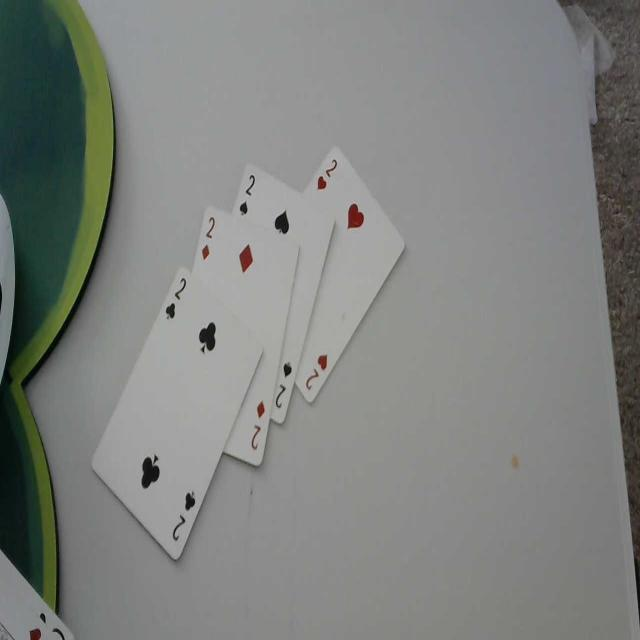2C: (171, 489, 200, 546), (164, 273, 188, 325)
2D: (304, 350, 330, 391), (250, 400, 266, 455), (202, 211, 218, 262)
2H: (316, 155, 340, 195)
2S: (273, 359, 294, 411), (238, 170, 257, 218)
